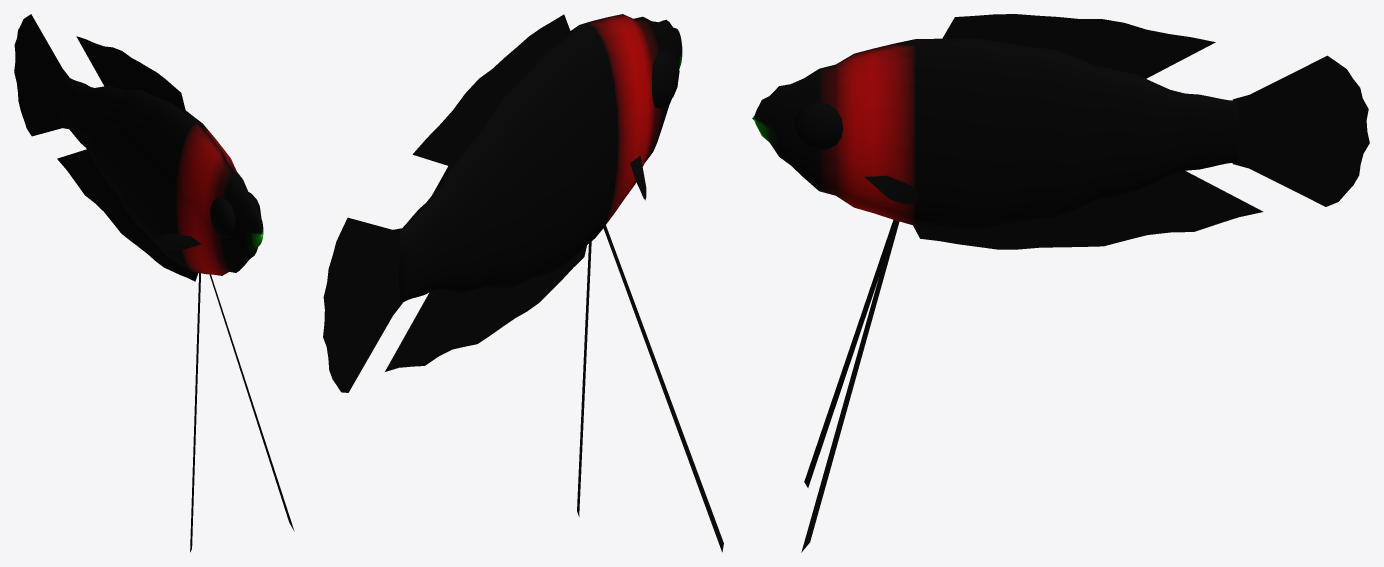
The model's file is dwarf-gourami.glb.
The picture shows the model from 3 angles, left to right: view 1: azimuth 30°, elevation 25°; view 2: azimuth 150°, elevation 25°; view 3: azimuth 270°, elevation 25°; orthographic projection. The views are drawn at different scales.
Visible parts, largest first — view 1: dwarf_body, dwarf_caudal, dwarf_anal, dwarf_dorsal, dwarf_eyeL, dwarf_pelvicL, dwarf_pelvicR, dwarf_pectoralL; view 2: dwarf_body, dwarf_caudal, dwarf_anal, dwarf_dorsal, dwarf_pelvicL, dwarf_eyeL, dwarf_pelvicR; view 3: dwarf_body, dwarf_caudal, dwarf_anal, dwarf_dorsal, dwarf_pelvicR, dwarf_eyeR, dwarf_pelvicL, dwarf_pectoralR.
Part boxes in pixels (<box>): dwarf_body: <box>60,77,263,275</box>; dwarf_caudal: <box>14,14,69,136</box>; dwarf_anal: <box>57,149,198,281</box>; dwarf_dorsal: <box>76,36,186,113</box>; dwarf_eyeL: <box>210,197,235,238</box>; dwarf_pelvicL: <box>190,273,200,552</box>; dwarf_pelvicR: <box>209,274,294,531</box>; dwarf_pectoralL: <box>156,233,201,251</box>; dwarf_body: <box>398,14,682,303</box>; dwarf_caudal: <box>323,217,402,392</box>; dwarf_anal: <box>385,245,586,371</box>; dwarf_dorsal: <box>412,14,571,167</box>; dwarf_pelvicL: <box>603,225,723,552</box>; dwarf_eyeL: <box>651,49,679,108</box>; dwarf_pelvicR: <box>577,241,591,516</box>; dwarf_body: <box>752,38,1239,229</box>; dwarf_caudal: <box>1232,55,1369,206</box>; dwarf_anal: <box>913,171,1263,249</box>; dwarf_dorsal: <box>942,14,1215,78</box>; dwarf_pelvicR: <box>801,220,899,552</box>; dwarf_eyeR: <box>794,102,843,150</box>; dwarf_pelvicL: <box>804,220,894,487</box>; dwarf_pectoralR: <box>864,175,918,204</box>.
Size of the model in its own units: 0.3011 by 1.15 by 1.27.
